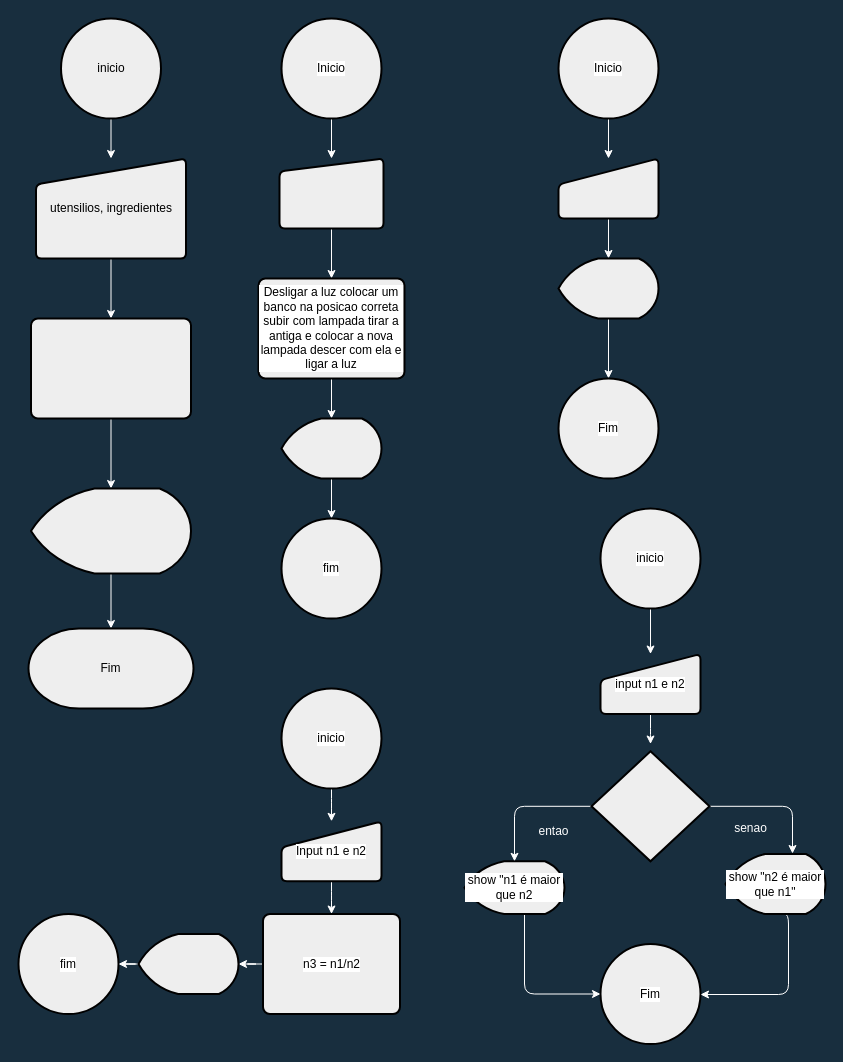
This 843x1062 diagram has some shape labels left out. The centre of each missing label's shape, as x and y in pixels:
esquentar o oleo na panela colocar o ovo colocar sal esperar o tempo necessario: (x=111, y=368)
Input n1 n2 n3: (x=608, y=188)
lampada, banco: (x=331, y=193)
se n1<n2: (x=650, y=806)
servir o ovo: (x=111, y=530)
show "A divisão entre n1 e n2 é igual a n3": (x=188, y=963)
show "a lampada funciona": (x=331, y=448)
Show "n3 n2 n1": (x=608, y=288)
